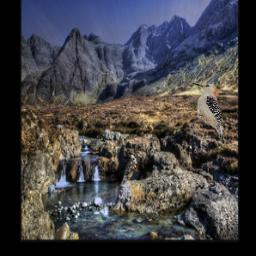Woodpecker: (192, 79, 229, 147), (125, 151, 143, 176)
